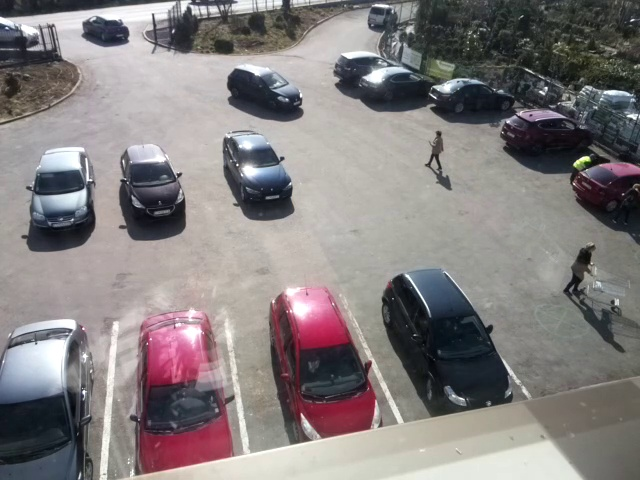car: (382, 267, 513, 416), (270, 285, 383, 444), (137, 311, 233, 476), (1, 318, 94, 479), (29, 147, 95, 233), (223, 128, 294, 204), (120, 144, 187, 222), (501, 109, 596, 159), (227, 64, 305, 111), (570, 161, 640, 210), (430, 75, 517, 113), (359, 67, 431, 100), (335, 52, 406, 83), (80, 14, 131, 44), (1, 16, 40, 48), (367, 3, 400, 29)
